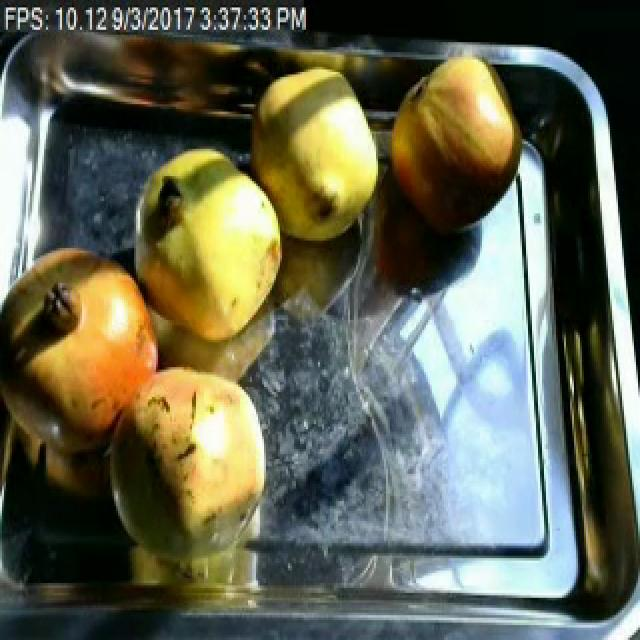fruit: (90, 350, 284, 600), (0, 228, 184, 489), (118, 137, 296, 362), (380, 44, 530, 250), (240, 59, 392, 256)
